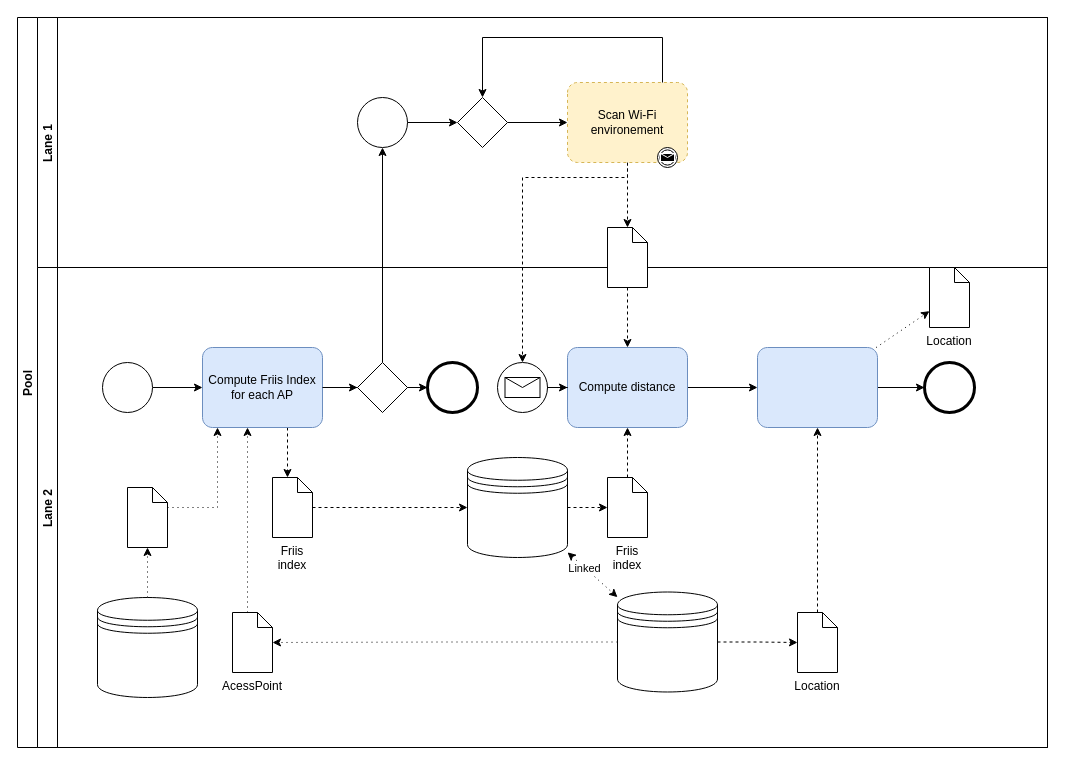
The diagram is 1065 pixels wide and 765 high, and some of its shapes have lost their labels. Each missing label, with the centre of its shape:
"AP List" goes at point 667,641.
"Calibration Fingerprint" goes at point 147,647.
"Fingerprint" goes at point 147,517.
"Friis indexes" goes at point 517,507.
"list of RSSISample" goes at point 627,257.
"Multilaterate" goes at point 817,387.
